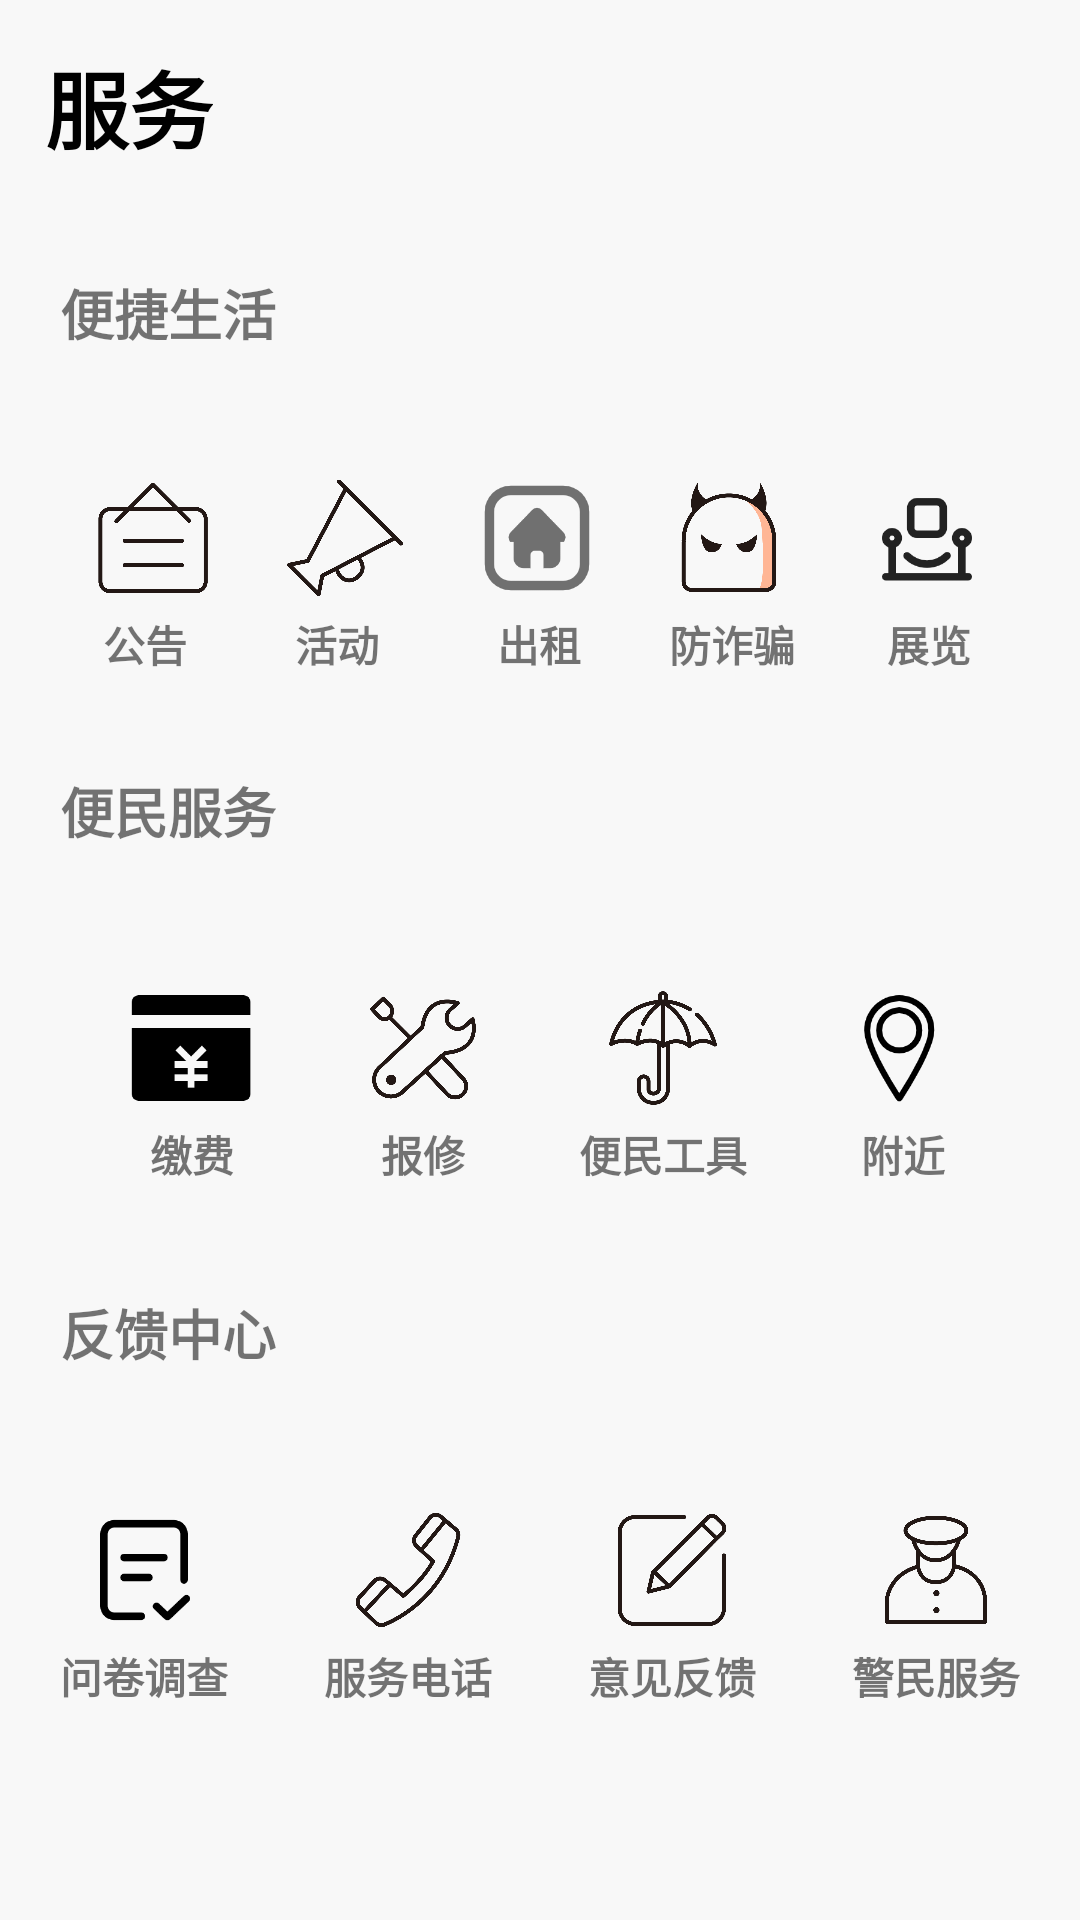

Icon bounding boxes for this 1080px x 1920px phone screenshot, format bbox(x1, y1, x2, y2):
house: bbox(484, 485, 590, 591)
